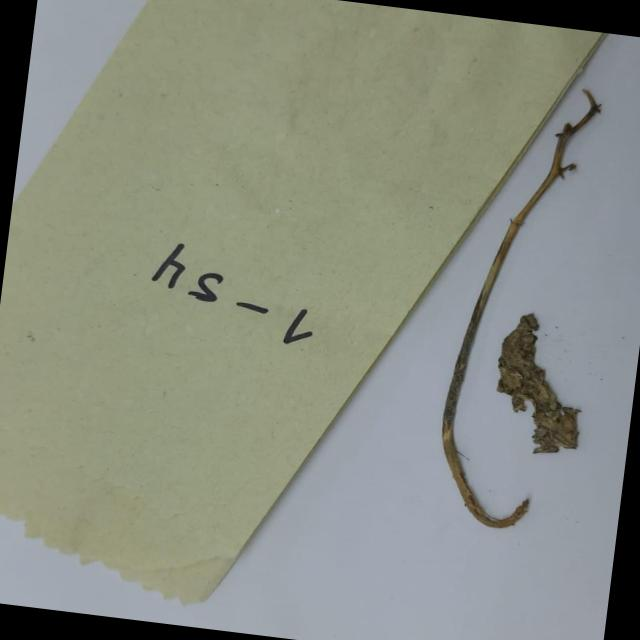Root: (460, 490, 536, 537)
Stem: (417, 228, 508, 522), (493, 78, 609, 260)
rooten_leaf: (488, 311, 574, 414), (530, 402, 580, 456)
